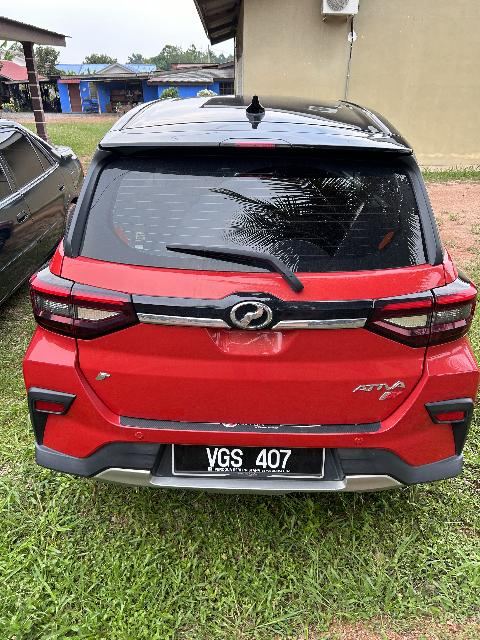License_Plate: (174, 447, 328, 480)
car: (11, 81, 480, 506)
